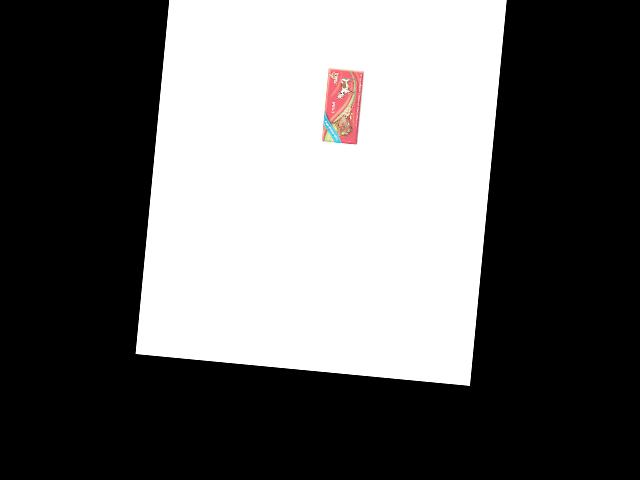chocolate: (321, 64, 363, 143)
